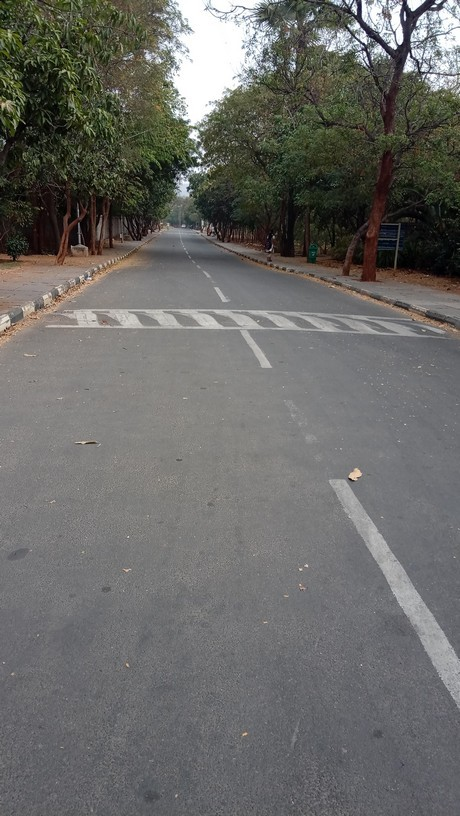bump: (12, 310, 454, 336)
